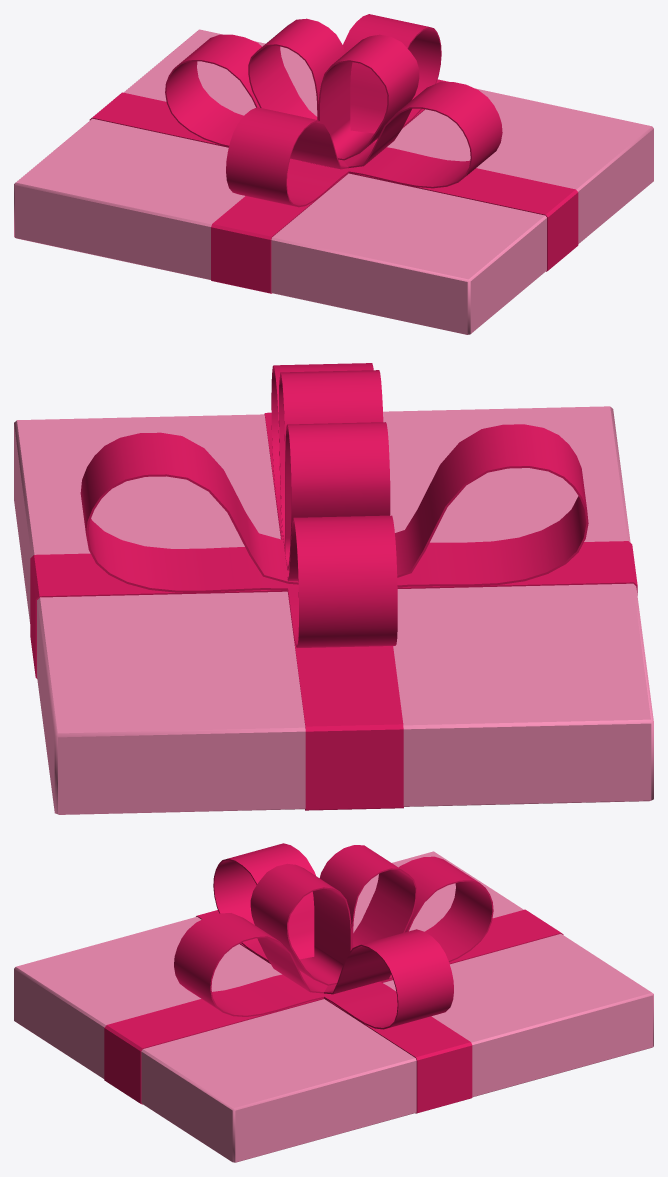
The model's file is Present3_2.fbx.
The picture shows the model from 3 angles, top to bottom: view 1: azimuth 30°, elevation 25°; view 2: azimuth 150°, elevation 25°; view 3: azimuth 270°, elevation 25°; orthographic projection. The views are drawn at different scales.
Visible parts, largest first — view 1: Present3_2; view 2: Present3_2; view 3: Present3_2.
Boxes of the visible parts, x1=… form: Present3_2: x1=14, y1=14, x2=653, y2=334; Present3_2: x1=14, y1=363, x2=653, y2=814; Present3_2: x1=14, y1=843, x2=653, y2=1162.
Bounding box in the file's own units: 0.6118 × 0.1849 × 0.6408.
